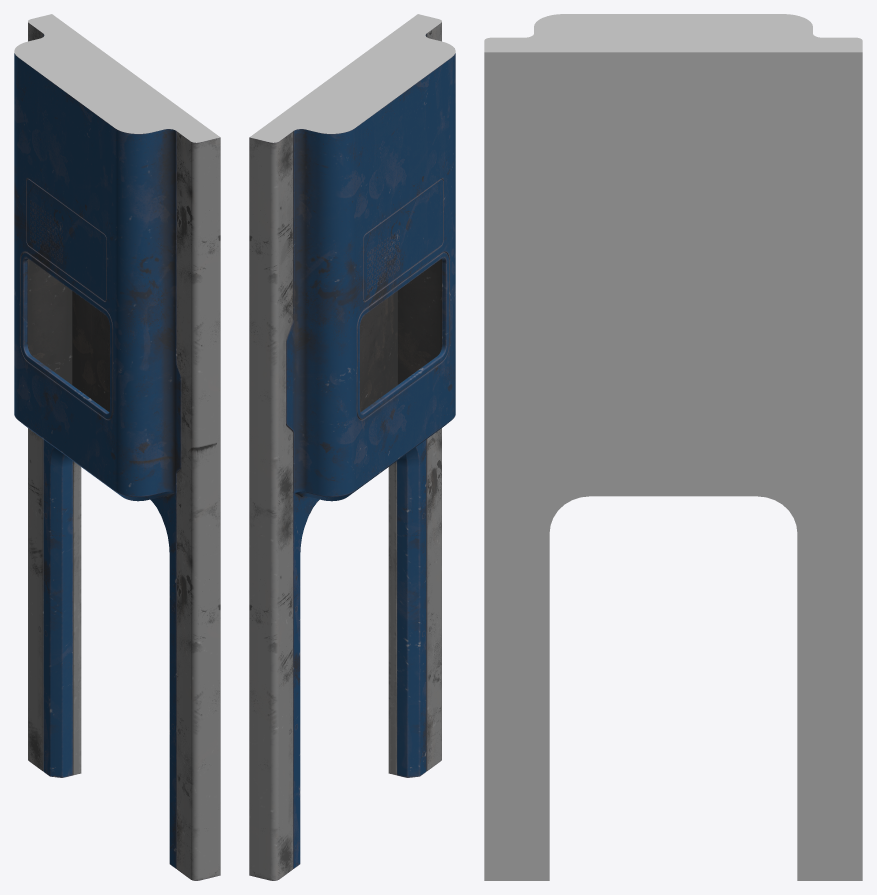
Rendered from SM_CorridorDoor03.fbx.
3 renders of one model, left to right at view 1: azimuth 30°, elevation 25°; view 2: azimuth 150°, elevation 25°; view 3: azimuth 270°, elevation 25°, orthographic. The views are drawn at different scales.
Visible parts, largest first — view 1: SM_CorridorDoor03_LOD0; view 2: SM_CorridorDoor03_LOD0; view 3: SM_CorridorDoor03_LOD0.
Part boxes in pixels (x1,y1,x2,y2): SM_CorridorDoor03_LOD0: [14, 14, 220, 880]; SM_CorridorDoor03_LOD0: [249, 14, 455, 880]; SM_CorridorDoor03_LOD0: [484, 14, 862, 880].
Bounding box in the file's own units: 47.89 × 200 × 484.
3 materials, 1 textured.
